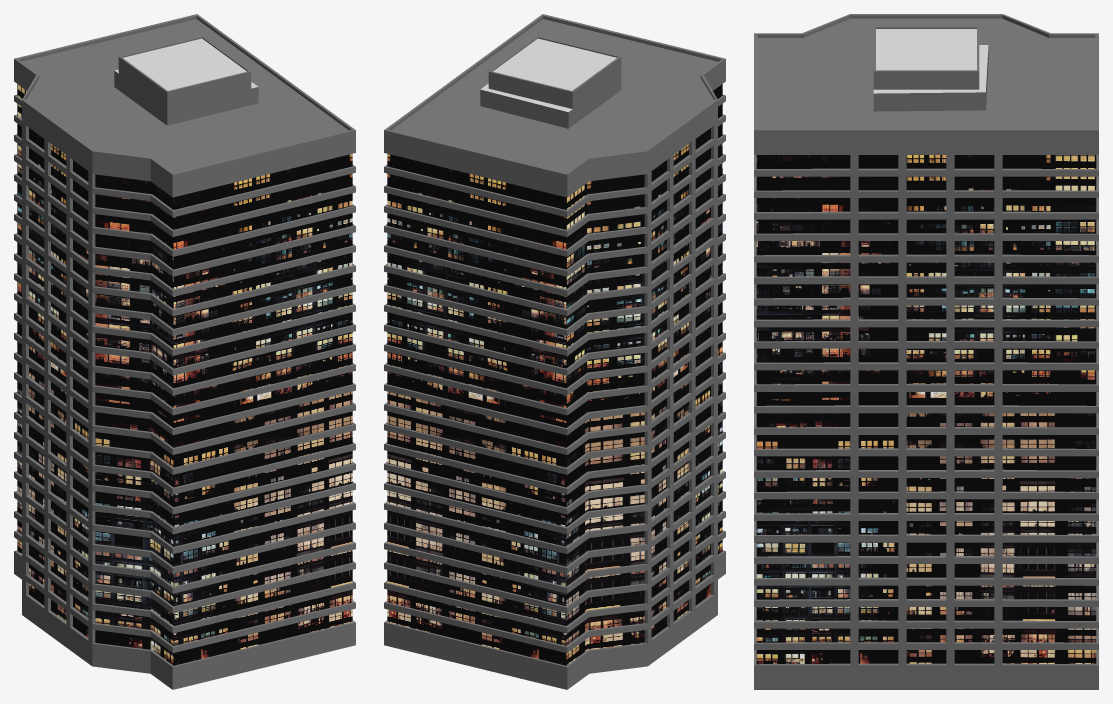
The model's file is Base Build.glb.
3 views of the same model, side by side, from view 1: azimuth 30°, elevation 25°; view 2: azimuth 150°, elevation 25°; view 3: azimuth 270°, elevation 25° (orthographic). The views are drawn at different scales.
Parts seen in each view (by area): view 1: Cube; view 2: Cube; view 3: Cube.
Part boxes in pixels (x1=…): Cube: x1=14, y1=14, x2=355, y2=689; Cube: x1=384, y1=14, x2=725, y2=689; Cube: x1=754, y1=14, x2=1098, y2=689.
Size of the model in its own units: 4.12 by 9.79 by 5.16.
3 materials, 1 textured.
